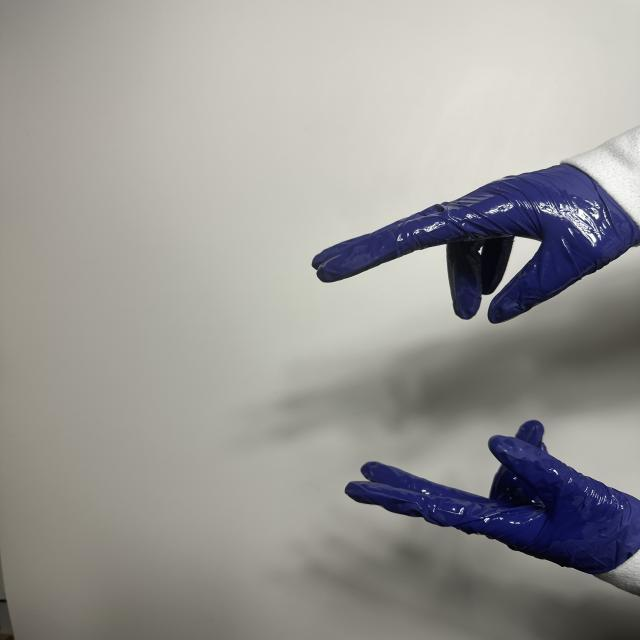gloves_contaminated: (312, 165, 640, 323), (345, 421, 640, 579)
